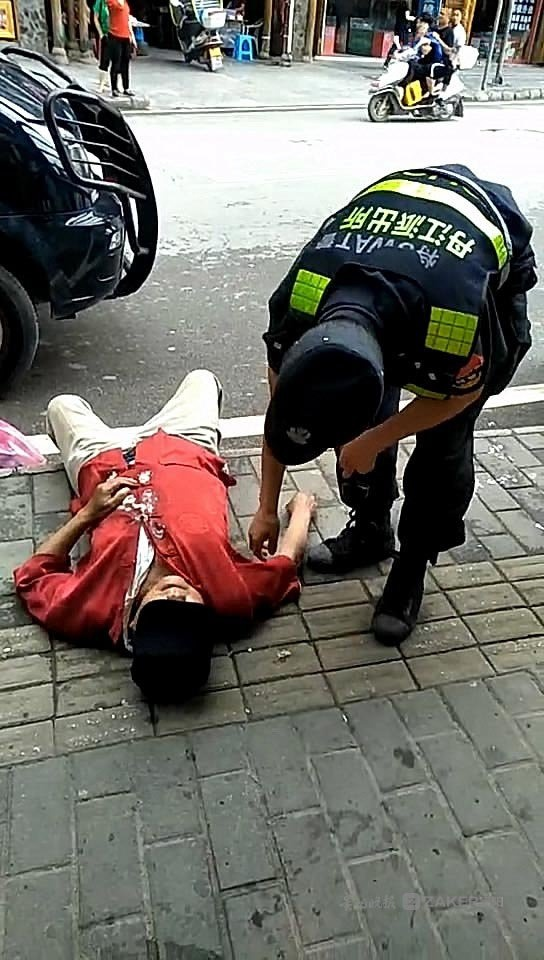falling: (11, 333, 317, 718)
